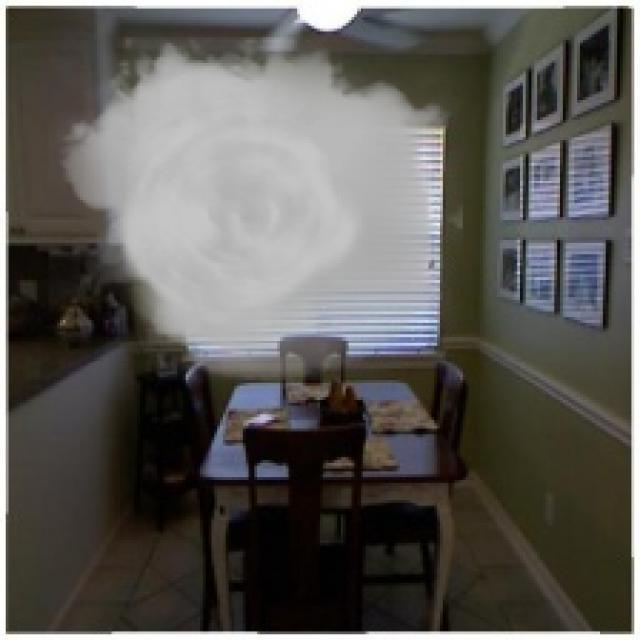Smoke: (48, 37, 463, 383)
